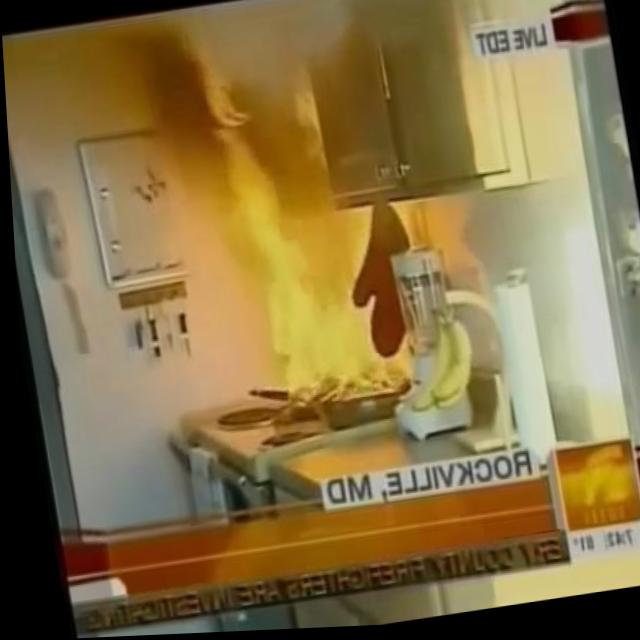fire: (243, 200, 439, 411), (145, 18, 336, 231)
